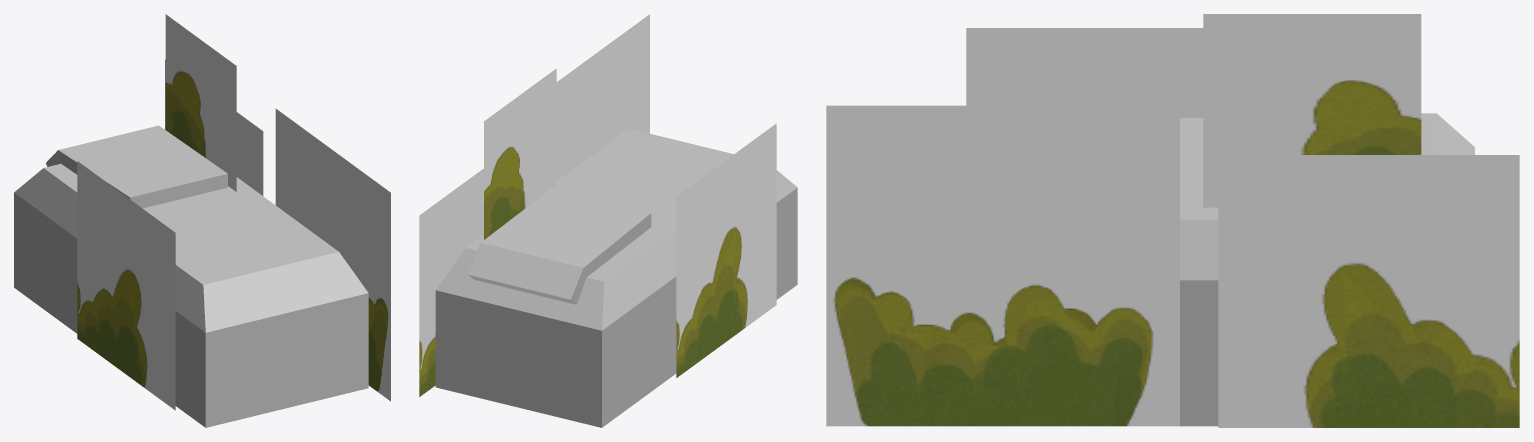
The model's file is Mouse_erba_con_texture.fbx.
3 views of the same model, side by side, from view 1: azimuth 30°, elevation 25°; view 2: azimuth 150°, elevation 25°; view 3: azimuth 270°, elevation 25° (orthographic). The views are drawn at different scales.
Parts seen in each view (by area): view 1: pCube1, pPlane6; view 2: pCube1, pPlane6; view 3: pPlane6, pCube1.
Boxes of the visible parts, x1,y1,x2,y2 form: pCube1: [14, 125, 368, 427]; pPlane6: [77, 14, 390, 410]; pCube1: [435, 128, 797, 427]; pPlane6: [419, 14, 776, 396]; pPlane6: [826, 14, 1519, 427]; pCube1: [1180, 113, 1474, 426].
Size of the model in its own units: 1.49 by 2.14 by 3.44.
